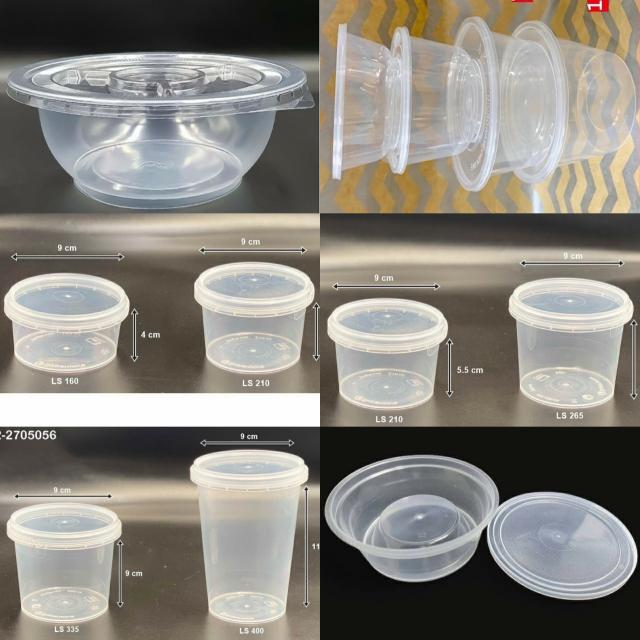Single-Use-Plastic: (8, 52, 314, 208), (325, 455, 499, 581), (500, 21, 635, 183), (190, 450, 308, 624), (453, 18, 557, 191), (509, 278, 633, 408), (488, 492, 637, 599), (385, 28, 485, 173), (8, 502, 121, 622), (194, 262, 314, 373), (328, 299, 448, 409), (4, 274, 129, 372), (333, 24, 390, 179)
